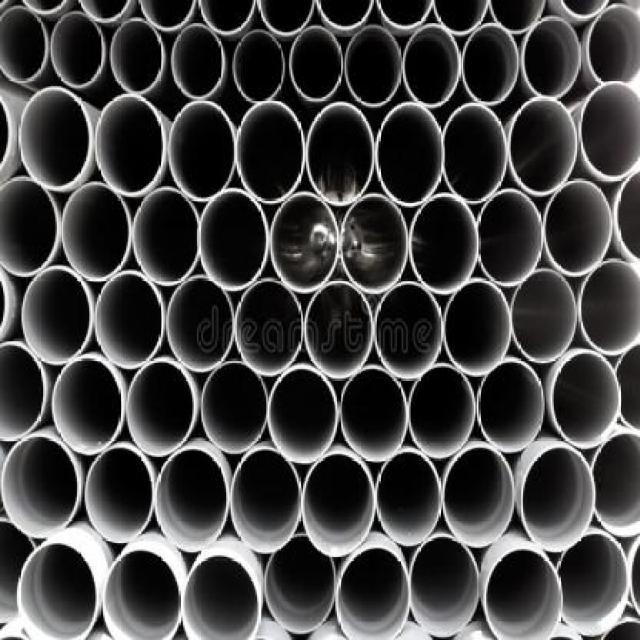pipe: (0, 434, 80, 538), (520, 446, 596, 552), (17, 543, 99, 640), (156, 448, 230, 552), (556, 532, 630, 636), (231, 446, 302, 554), (443, 445, 516, 548), (19, 88, 92, 190), (303, 454, 376, 556), (94, 94, 166, 197), (197, 189, 268, 292), (409, 192, 480, 294), (52, 356, 124, 456), (102, 549, 182, 639), (485, 548, 564, 639), (265, 534, 336, 635), (21, 266, 94, 364), (235, 100, 304, 203), (411, 535, 480, 638), (306, 102, 374, 206), (337, 545, 411, 640), (549, 349, 620, 448), (375, 103, 443, 206), (508, 96, 578, 196), (271, 192, 340, 293), (268, 366, 339, 464), (85, 446, 156, 544), (342, 194, 410, 295), (62, 183, 131, 282), (235, 277, 304, 376), (96, 273, 167, 369), (182, 554, 262, 638), (374, 282, 442, 380), (169, 102, 236, 201), (133, 188, 200, 286), (305, 280, 372, 378), (166, 276, 234, 372), (126, 360, 194, 456), (340, 366, 408, 462), (443, 103, 507, 204), (545, 180, 612, 276), (443, 279, 510, 375), (477, 190, 543, 286), (409, 365, 476, 459), (0, 177, 62, 278), (375, 451, 440, 546), (477, 362, 544, 454), (202, 362, 269, 454), (580, 82, 640, 184), (577, 257, 640, 354), (511, 269, 576, 363), (591, 430, 638, 539), (522, 17, 581, 99), (403, 23, 460, 107), (0, 340, 48, 439), (462, 25, 519, 106), (345, 26, 402, 107), (586, 5, 640, 84), (51, 11, 104, 88), (172, 23, 226, 98), (111, 19, 164, 94), (290, 26, 343, 100), (0, 6, 48, 84), (234, 31, 285, 102), (432, 0, 488, 34), (488, 0, 545, 33), (375, 0, 432, 32), (316, 0, 375, 30)
